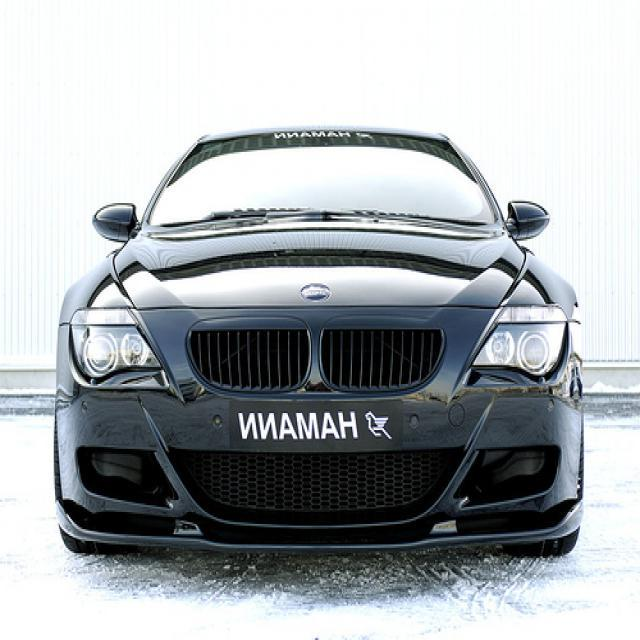Car: (30, 95, 614, 592)
